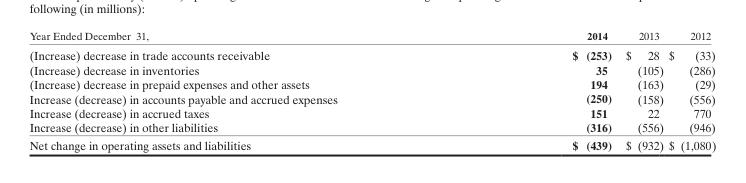table: (28, 28, 715, 152)
table column: (28, 28, 454, 152), (454, 28, 618, 152), (665, 28, 715, 152), (618, 28, 665, 152)
table column header: (28, 28, 715, 44)
table row: (28, 44, 715, 62), (28, 135, 715, 152), (28, 28, 715, 44), (28, 119, 715, 135), (28, 62, 715, 77), (28, 77, 715, 91), (28, 91, 715, 105), (28, 105, 715, 119)
